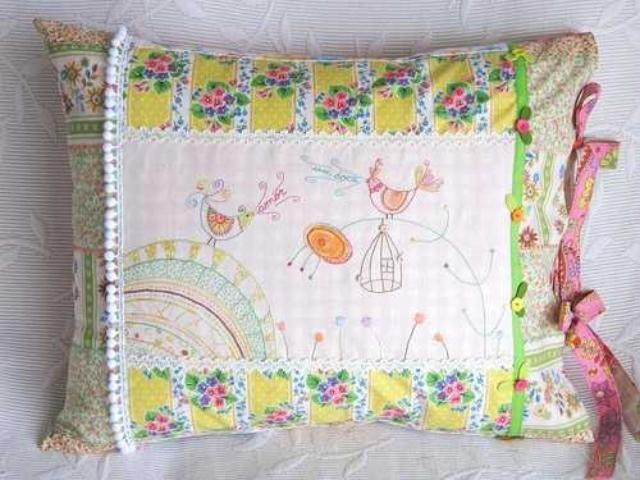pillow: (28, 12, 606, 452)
